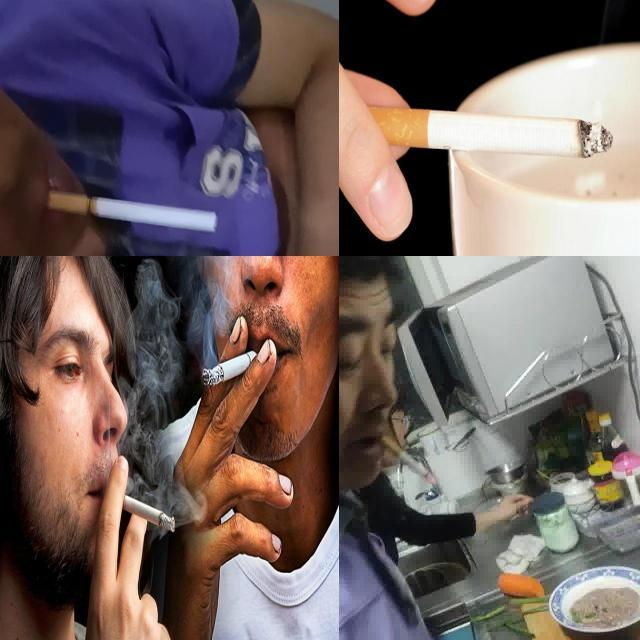cigarette: (366, 104, 614, 164), (46, 192, 220, 234), (105, 486, 177, 534), (378, 430, 436, 486), (203, 350, 259, 388)
